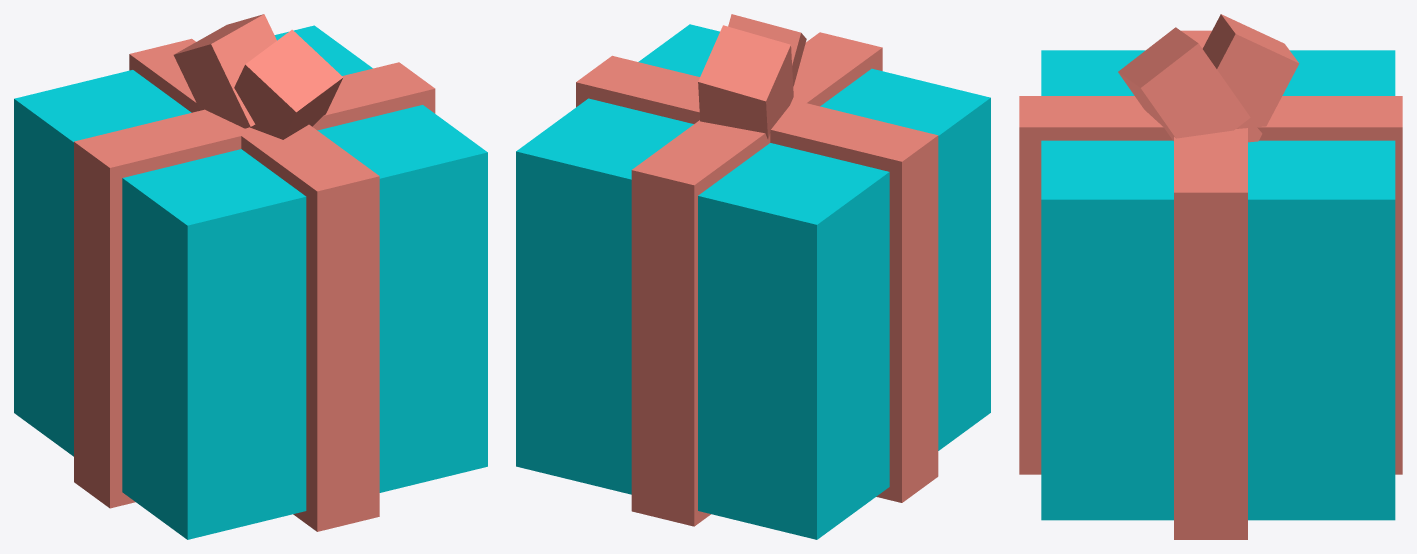
The model's file is gift2.glb.
The picture shows the model from 3 angles, left to right: view 1: azimuth 30°, elevation 25°; view 2: azimuth 150°, elevation 25°; view 3: azimuth 270°, elevation 25°; orthographic projection. The views are drawn at different scales.
Parts seen in each view (by area): view 1: group574743690, group1430080540, group2140092558, group273611730, group89207905; view 2: group574743690, group1430080540, group2140092558, group89207905, group273611730; view 3: group574743690, group2140092558, group1430080540, group273611730, group89207905.
Part boxes in pixels (x1,y1,x2,y2): group574743690: [14, 25, 487, 539]; group1430080540: [129, 38, 379, 531]; group2140092558: [74, 62, 435, 508]; group273611730: [234, 29, 343, 139]; group89207905: [173, 14, 276, 128]; group574743690: [516, 24, 990, 539]; group1430080540: [631, 32, 882, 526]; group2140092558: [576, 55, 938, 502]; group89207905: [698, 25, 793, 139]; group273611730: [728, 14, 806, 86]; group574743690: [1041, 50, 1395, 520]; group2140092558: [1174, 30, 1247, 539]; group1430080540: [1019, 96, 1402, 474]; group273611730: [1118, 27, 1250, 140]; group89207905: [1202, 14, 1299, 142].
Bounding box in the file's own units: 0.26 × 0.3264 × 0.26.
